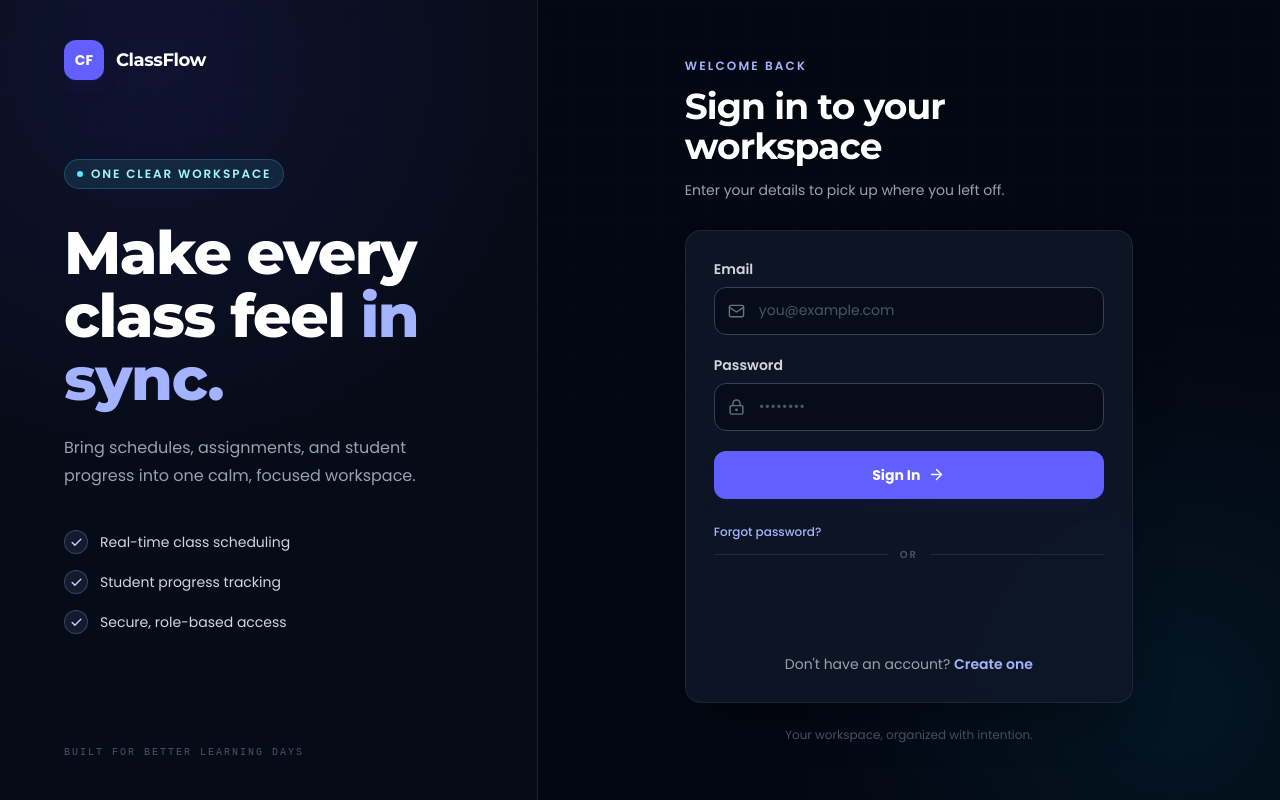
Login › shows the rate limit error when login attempts are limited
Type "ada@example.com" into the field labelled "Email" at (909, 310), box [714,286,1104,334]
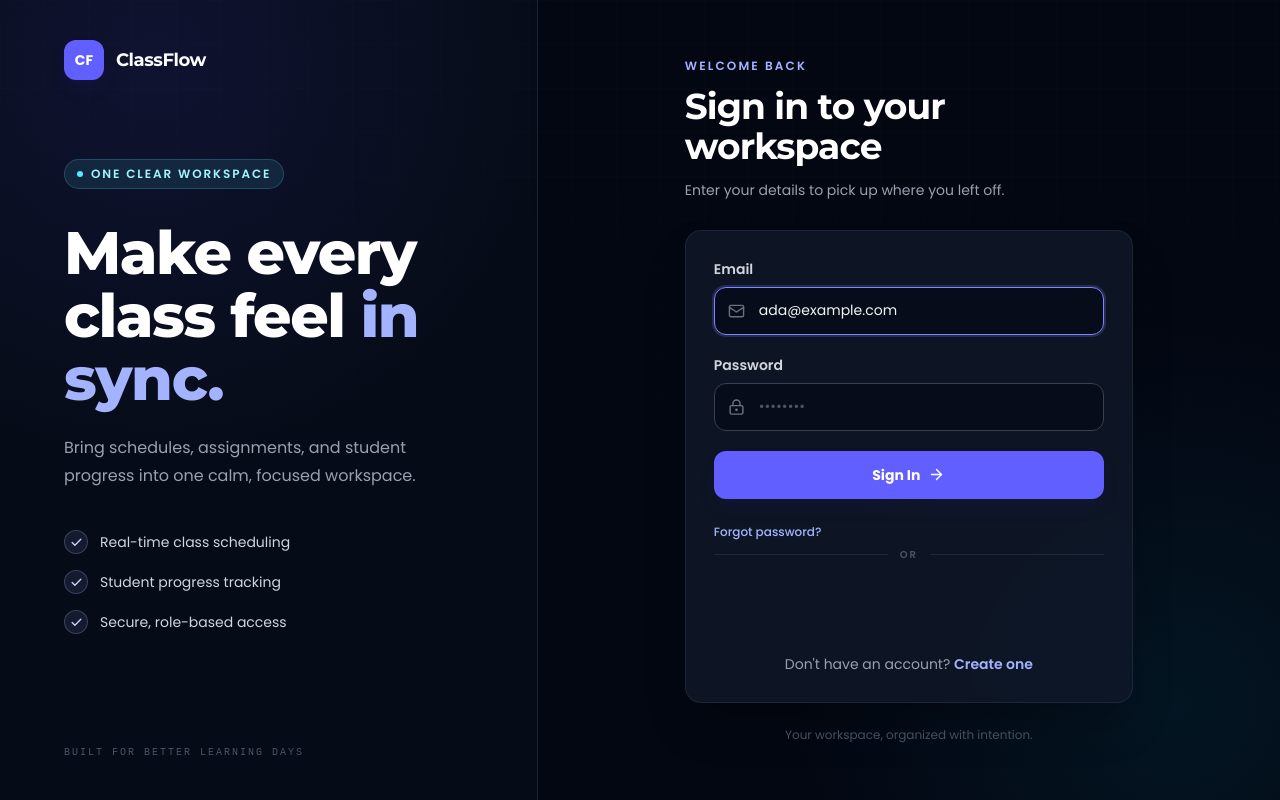
Type "secret123" into the password field labelled "Password" at (909, 406), box [714,382,1104,430]
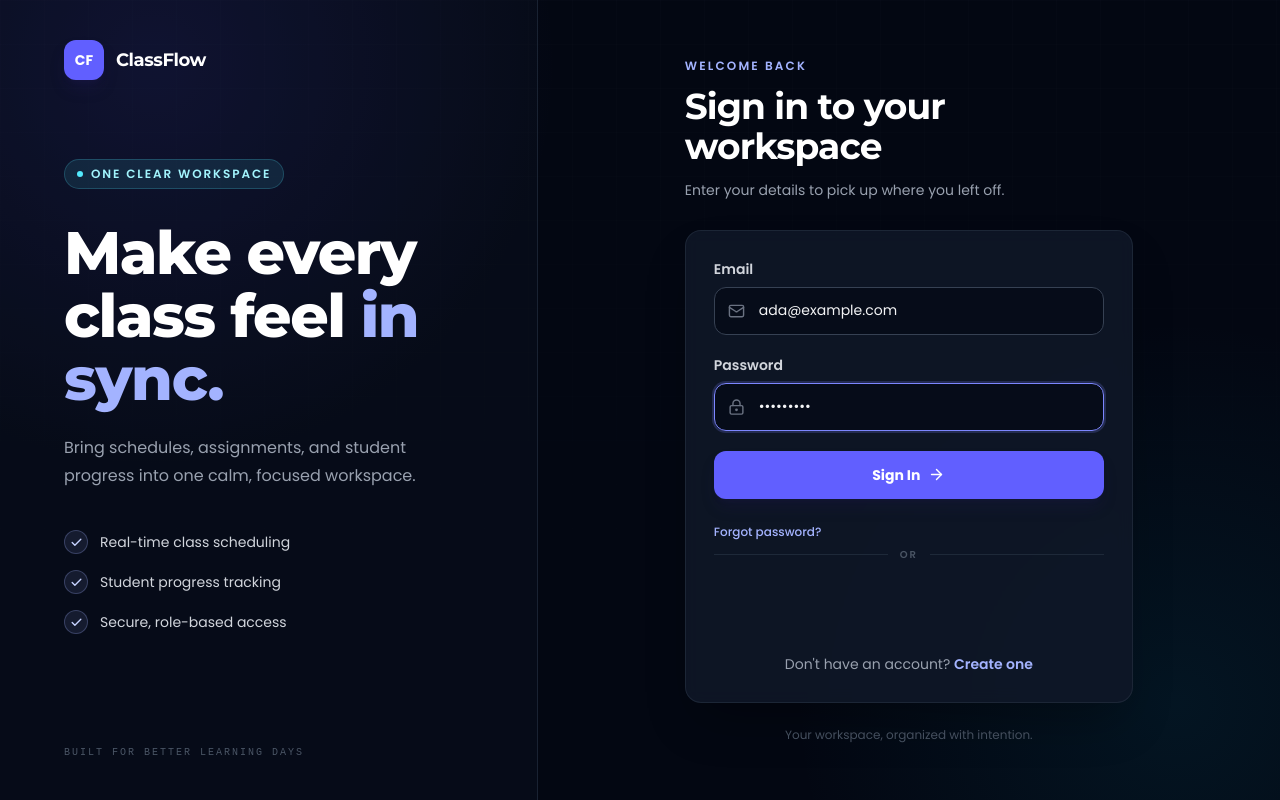
Click the button "Sign In" at (909, 474), box [714,450,1104,498]
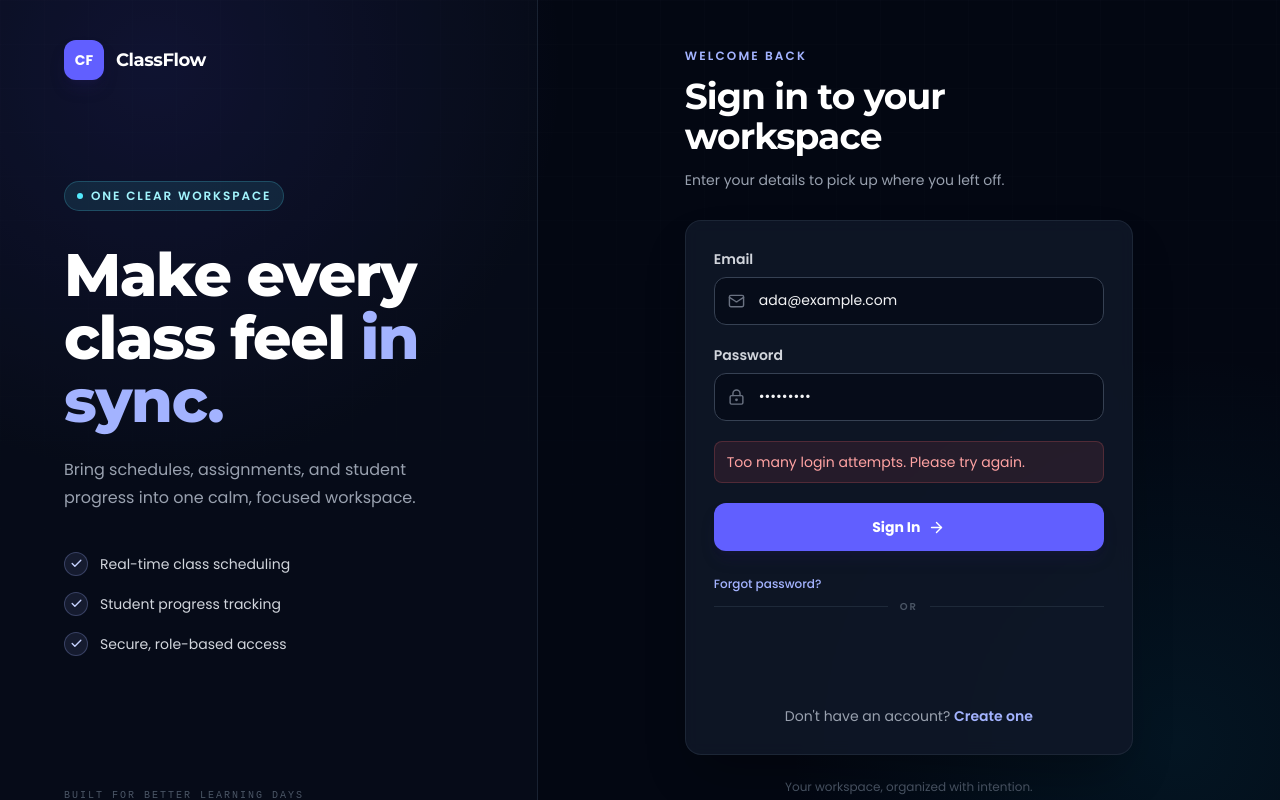
Expected: the message reads "Too many login attempts. Please try again.", [727,452,1025,472]
